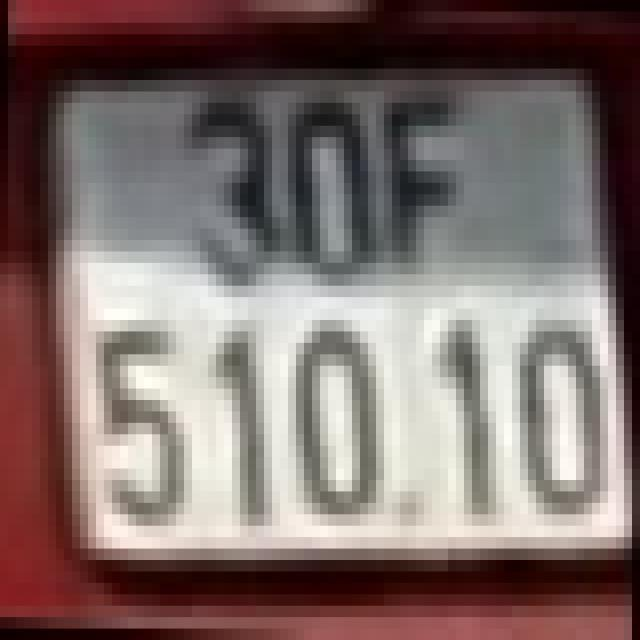0: (288, 320, 384, 526), (288, 91, 376, 286), (520, 320, 608, 514)
1: (208, 320, 272, 526), (432, 320, 496, 514)
3: (184, 91, 272, 298)
5: (96, 320, 192, 526)
F: (384, 91, 464, 286)
